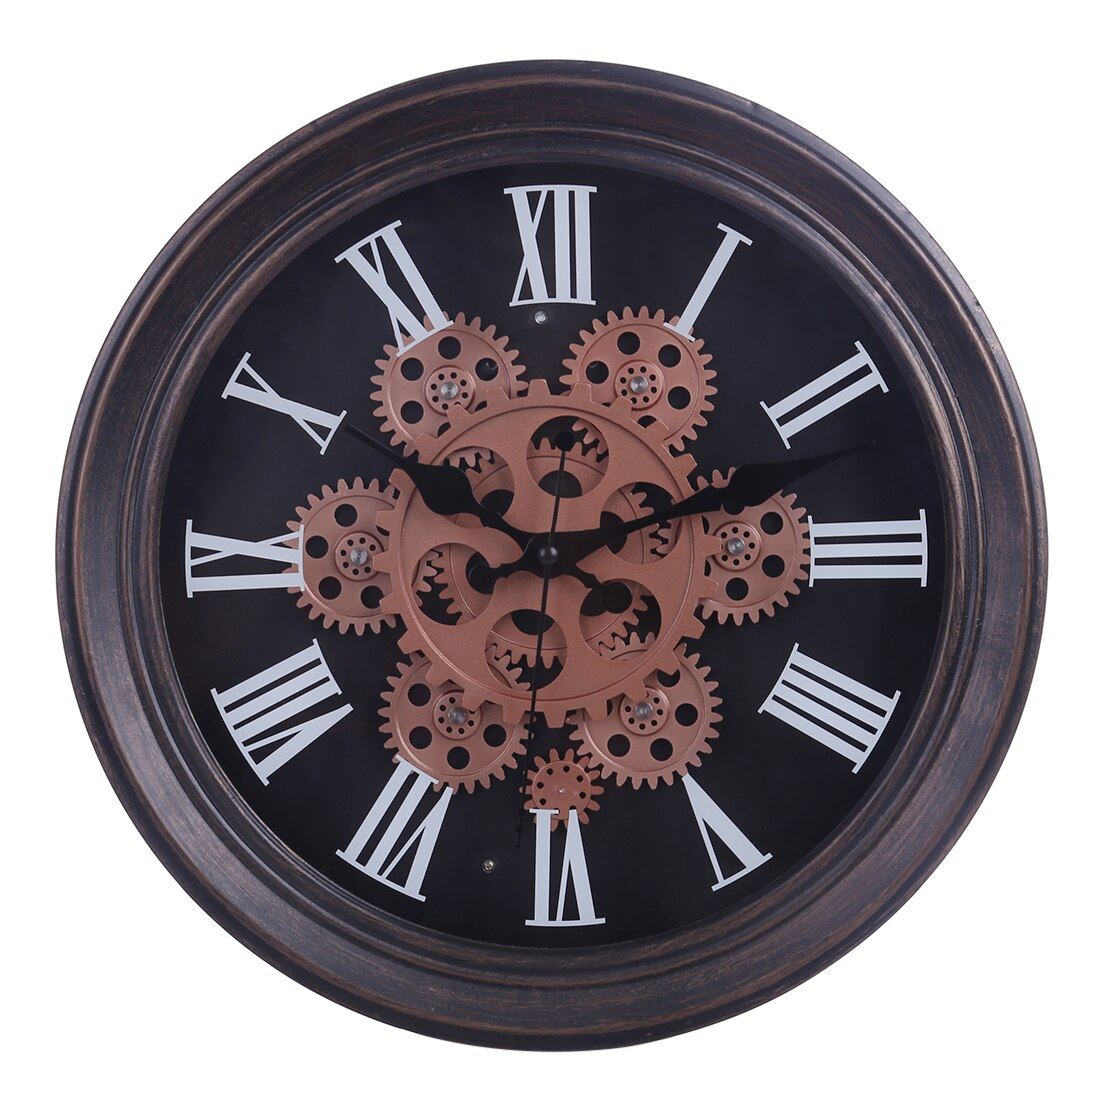jam dinding: (72, 87, 1050, 1044)
